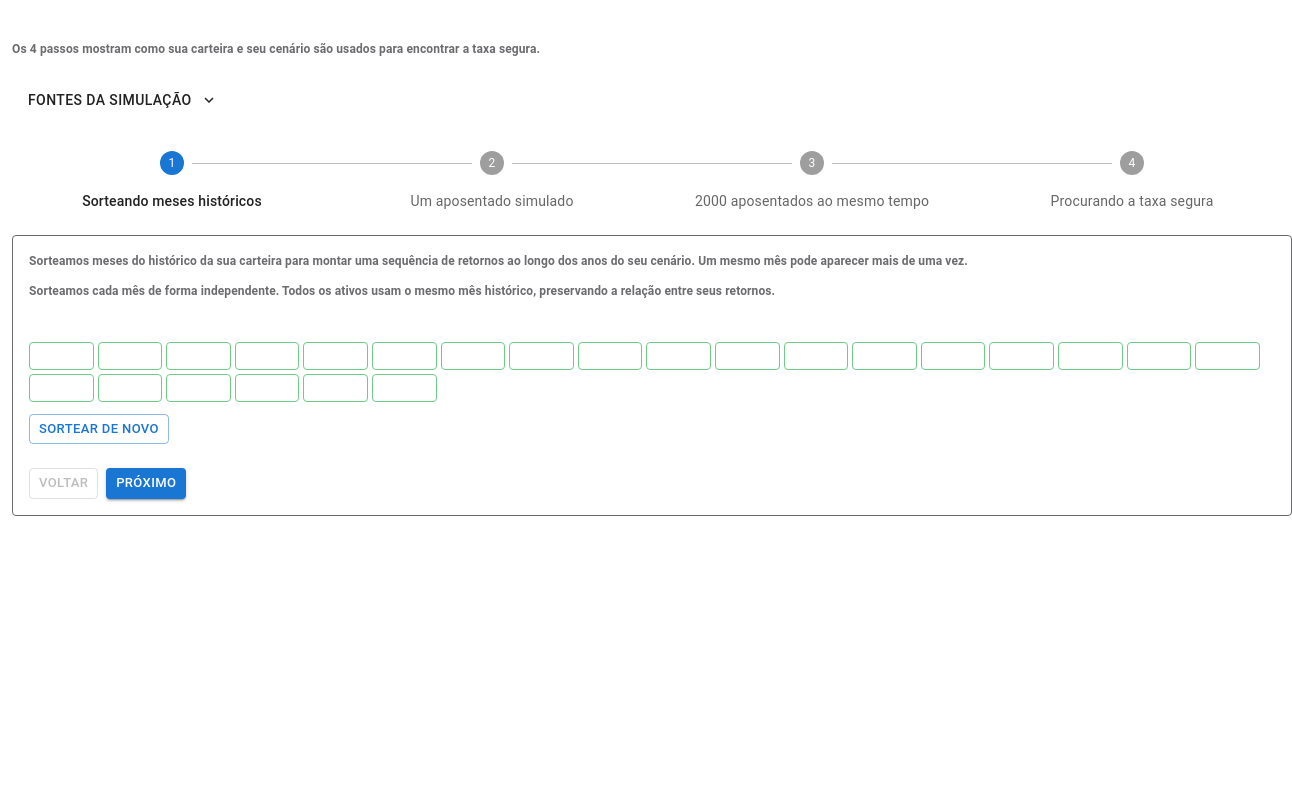
Test: explains the scope when the plan includes changing allocations and extra accumulation
What coordinates should you click on to do the following:
click the text "Um aposentado simulado"
I would click on:
 (492, 200)
Its box is [410, 192, 574, 208].
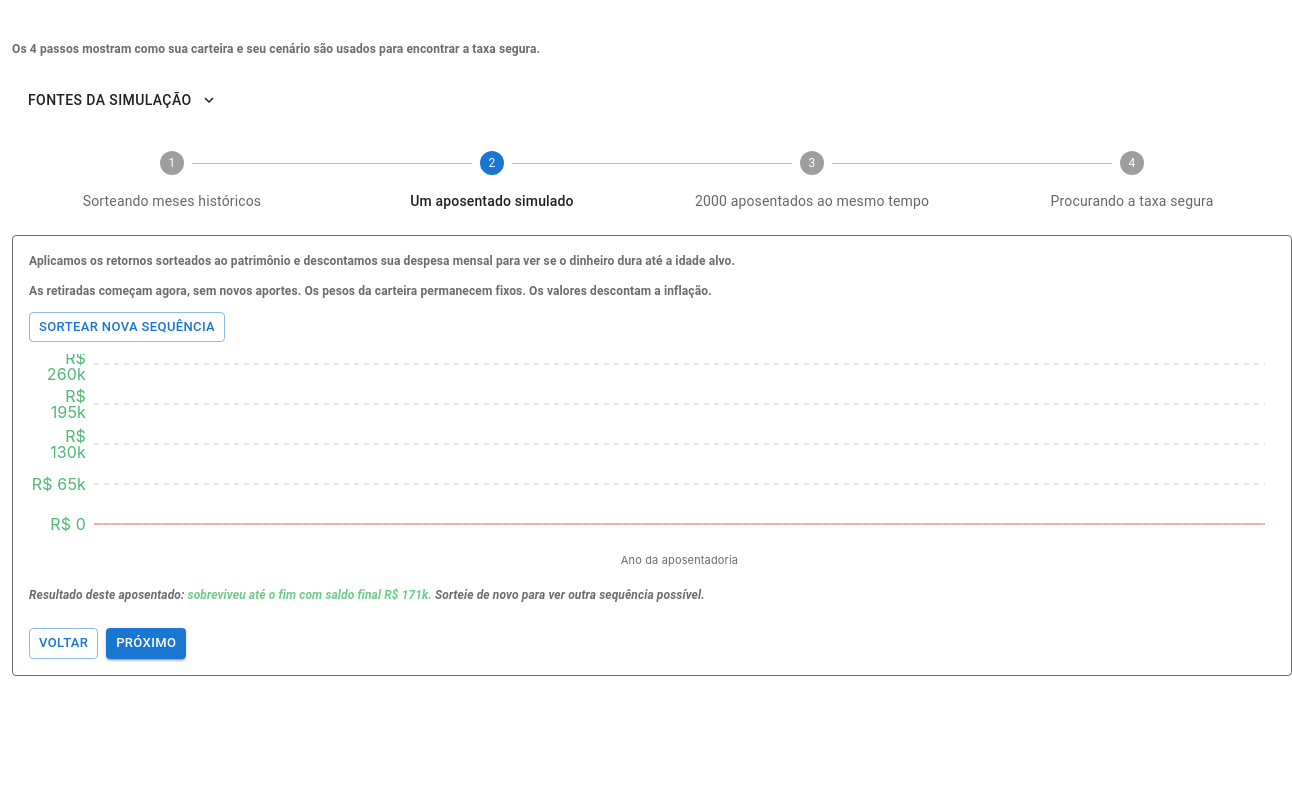
Now the text "As retiradas começam agora, sem novos aportes" is shown, box [29, 284, 712, 298]
What coordinates should you click on to do the following:
click the text "2000 aposentados ao mesmo tempo"
I would click on:
 (812, 200)
Its box is [695, 192, 929, 208].
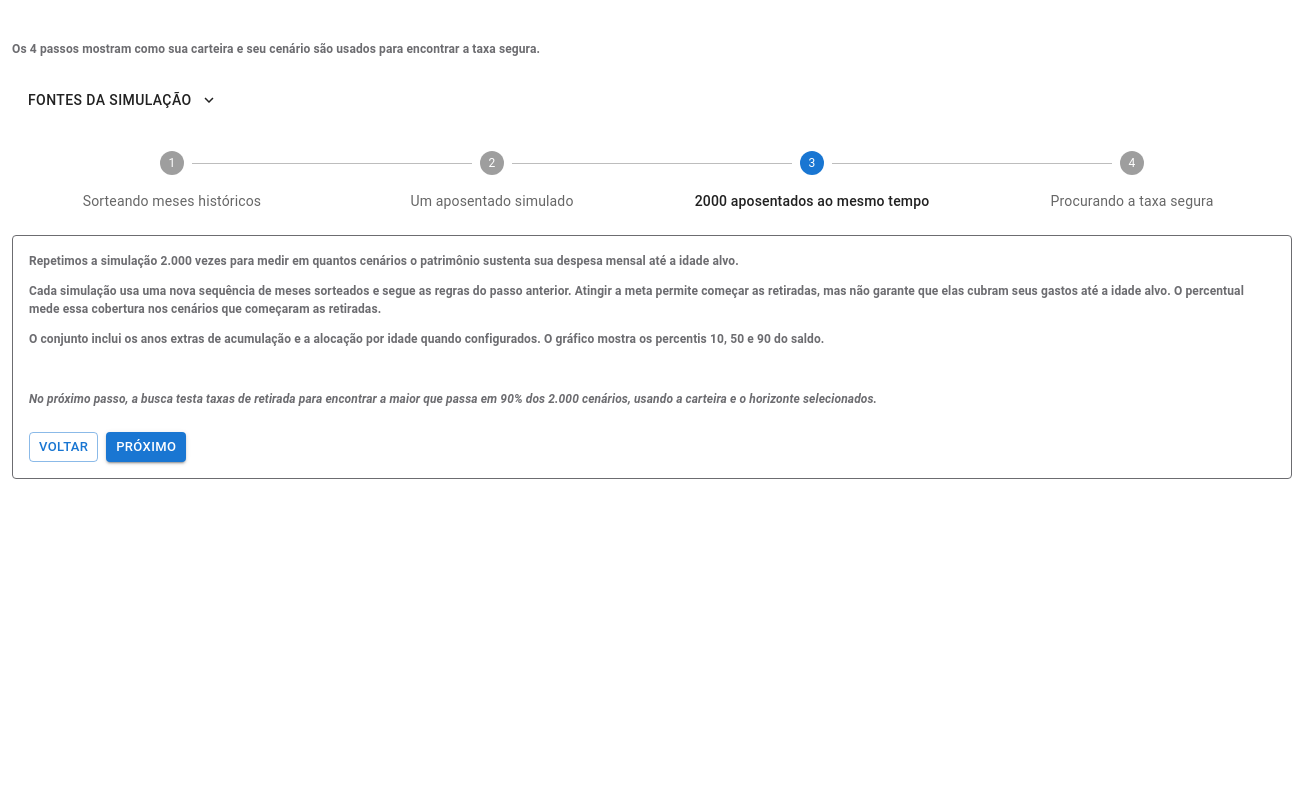
Now the text "O conjunto inclui os anos extras de acumulação" is shown, box [29, 332, 824, 346]
